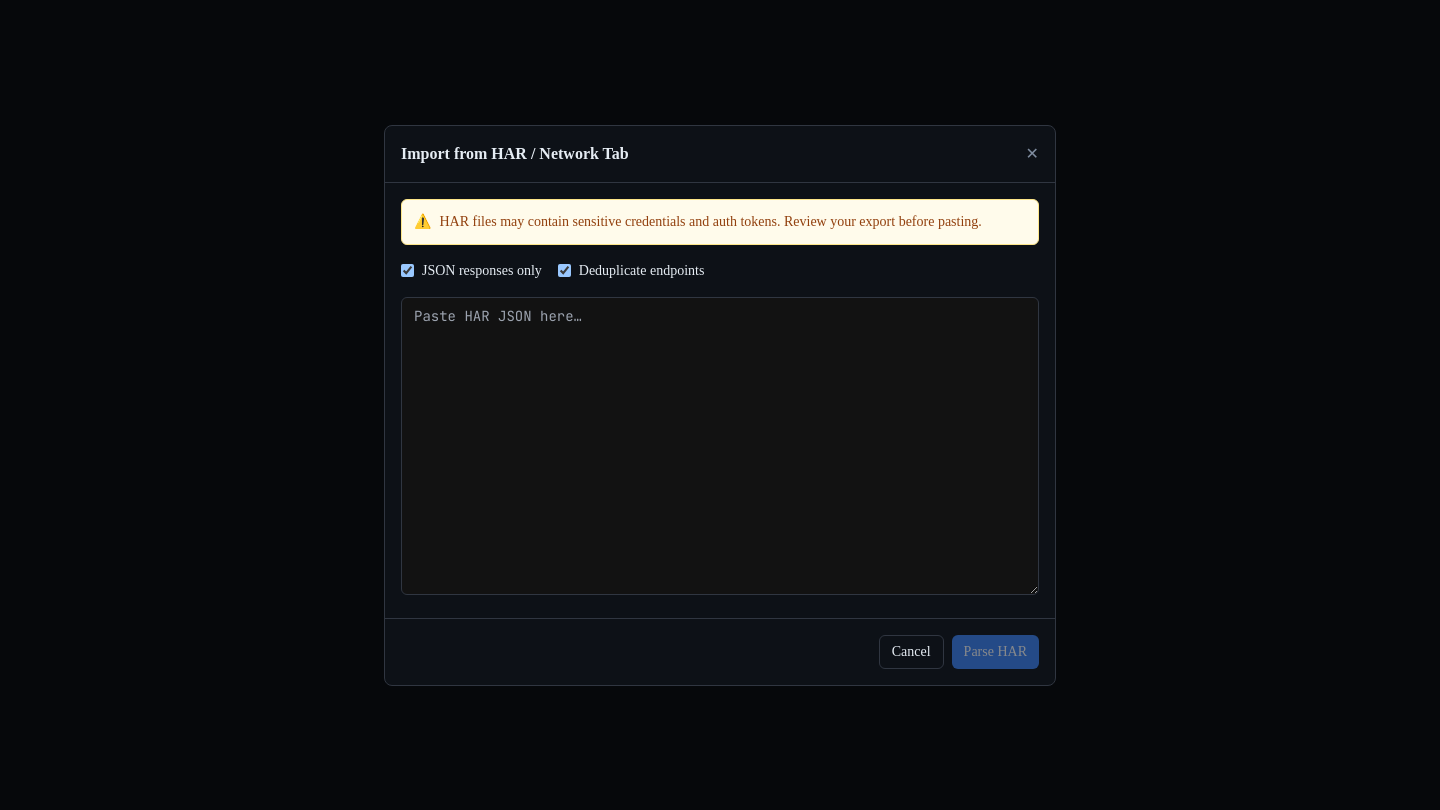
Scenario: HARImportModal › shows parse error for invalid JSON
Type "bad json" into the text box. click: (720, 446)
box: [401, 296, 1039, 594]
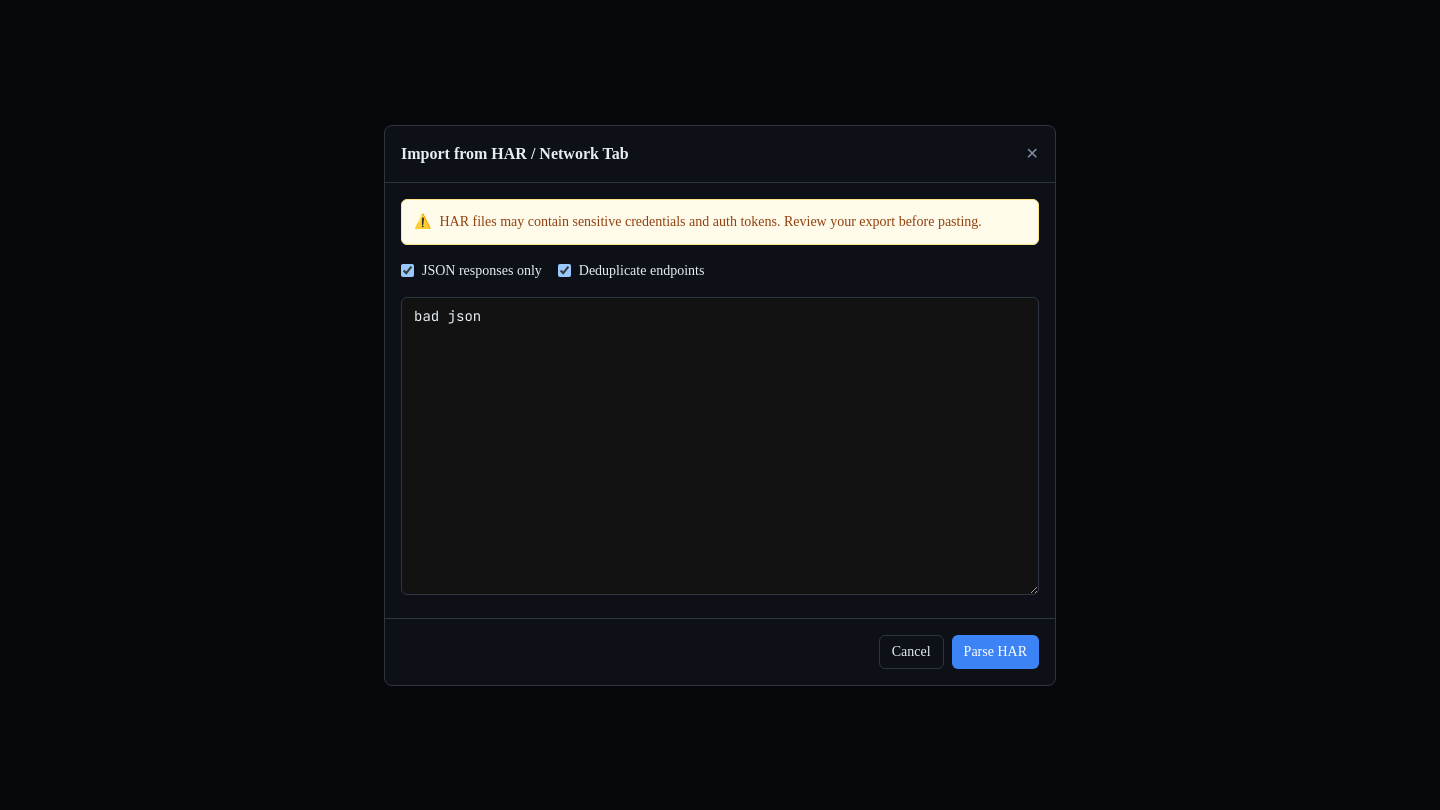
Click the button "Parse HAR". click: click(995, 652)
box: [952, 634, 1039, 668]
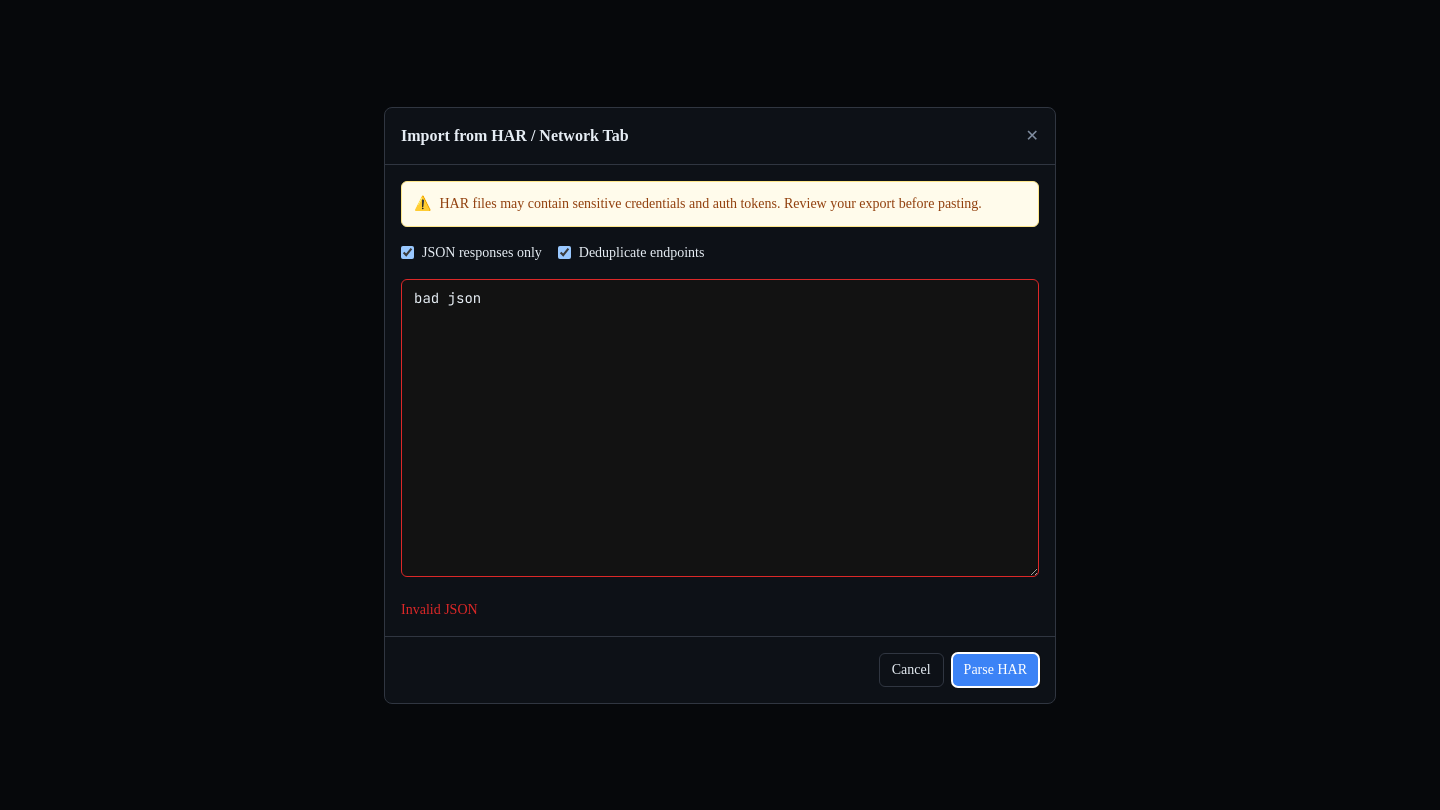
Check: the text "Invalid JSON" is shown, box [401, 602, 478, 616]
